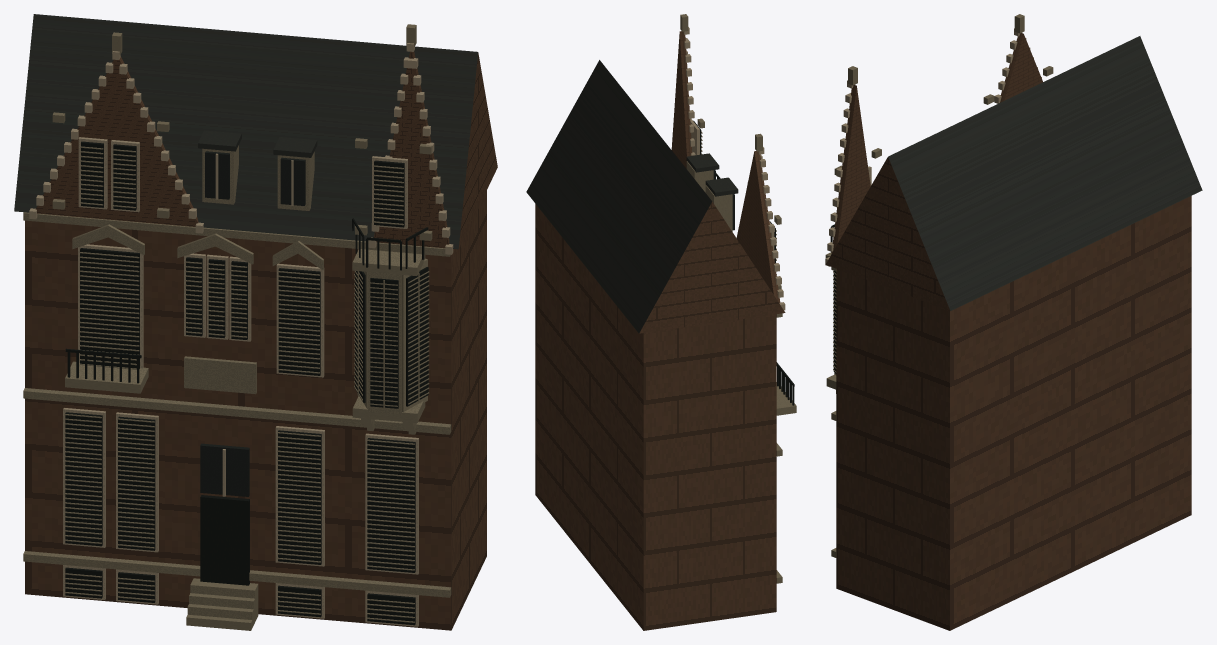
3 views of the same model, side by side, from view 1: azimuth 30°, elevation 25°; view 2: azimuth 150°, elevation 25°; view 3: azimuth 270°, elevation 25° (orthographic). The views are drawn at different scales.
Parts seen in each view (by area): view 1: woonhuis-van-veen-0, woonhuis-van-veen-1, woonhuis-van-veen-2, woonhuis-van-veen-3, woonhuis-van-veen-4, woonhuis-van-veen-5; view 2: woonhuis-van-veen-0, woonhuis-van-veen-1, woonhuis-van-veen-2, woonhuis-van-veen-4, woonhuis-van-veen-3; view 3: woonhuis-van-veen-0, woonhuis-van-veen-1, woonhuis-van-veen-2, woonhuis-van-veen-4.
Boxes of the visible parts, x1,y1,x2,y2 form: woonhuis-van-veen-0: [25, 51, 497, 630]; woonhuis-van-veen-1: [14, 14, 478, 249]; woonhuis-van-veen-2: [23, 24, 451, 630]; woonhuis-van-veen-3: [65, 141, 428, 625]; woonhuis-van-veen-4: [29, 43, 453, 626]; woonhuis-van-veen-5: [200, 151, 305, 496]; woonhuis-van-veen-0: [535, 31, 785, 630]; woonhuis-van-veen-1: [526, 60, 738, 333]; woonhuis-van-veen-2: [680, 14, 796, 583]; woonhuis-van-veen-4: [683, 27, 785, 310]; woonhuis-van-veen-3: [693, 120, 794, 405]; woonhuis-van-veen-0: [826, 33, 1191, 630]; woonhuis-van-veen-1: [888, 36, 1202, 310]; woonhuis-van-veen-2: [825, 14, 1053, 557]; woonhuis-van-veen-4: [825, 28, 1041, 266].
Size of the model in its own units: 12.84 by 18.17 by 12.23.
Materials: 6 (6 with a texture image).
